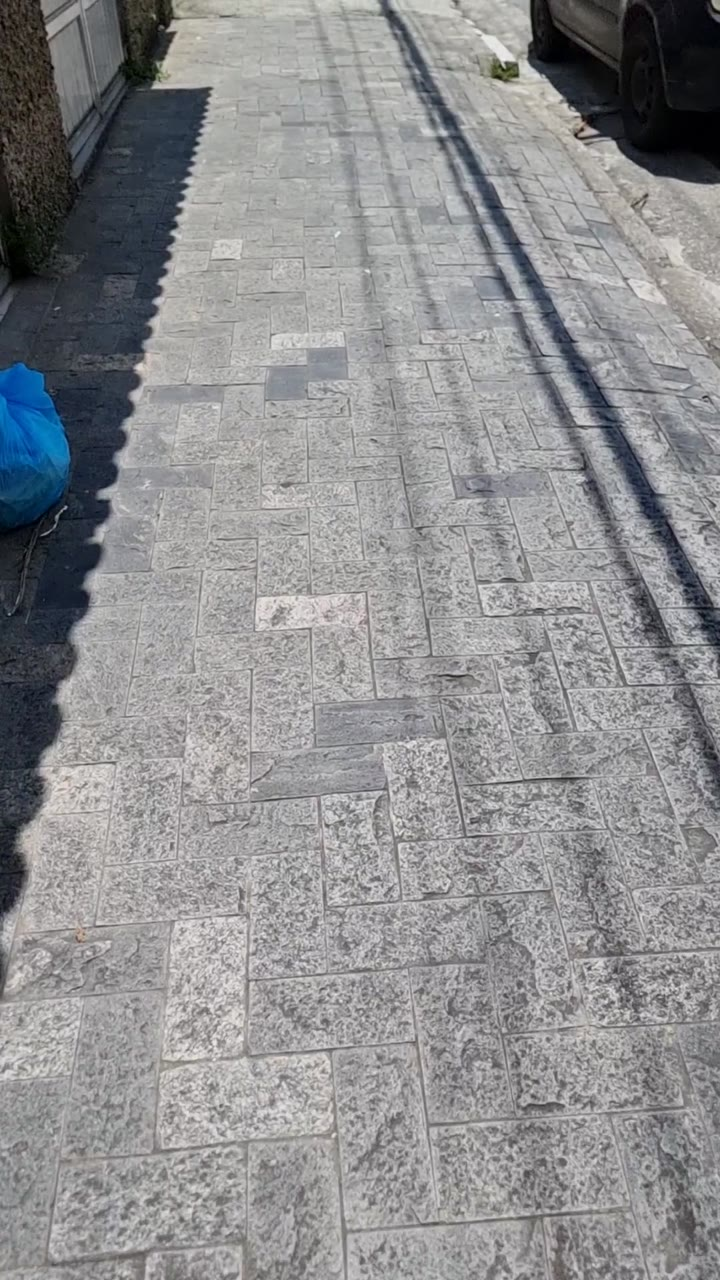obstaculo: (1, 363, 70, 531)
